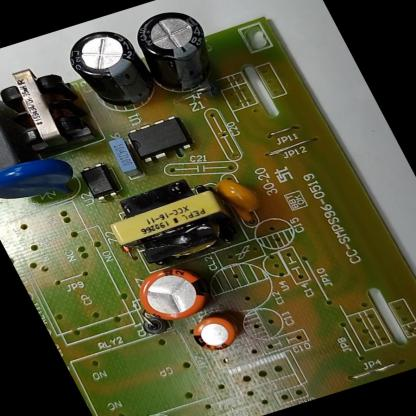Cap1: (115, 249, 230, 333)
Cap2: (177, 306, 251, 365)
Transformer: (98, 162, 255, 284)
